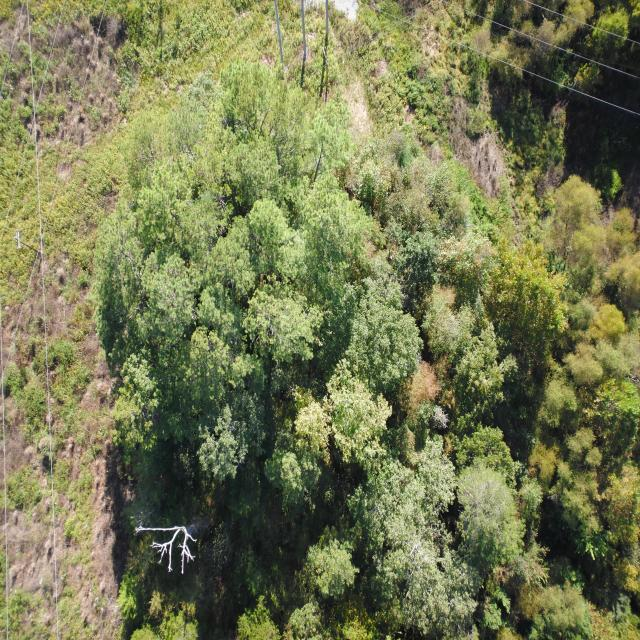Area of Interest: (94, 9, 634, 631)
